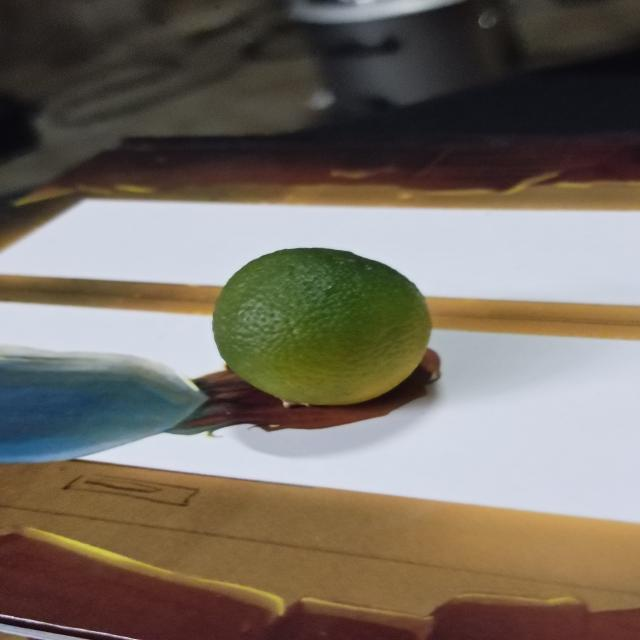heathy: (203, 245, 434, 404)
